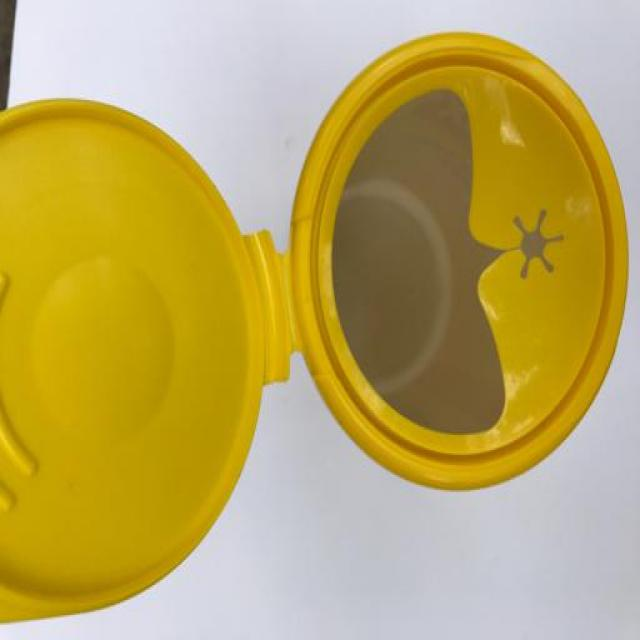plastic: (1, 11, 636, 640)
